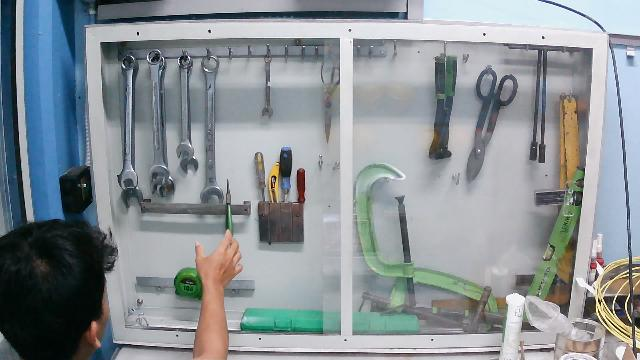tang_cucut_lancip_2: (214, 176, 244, 259)
